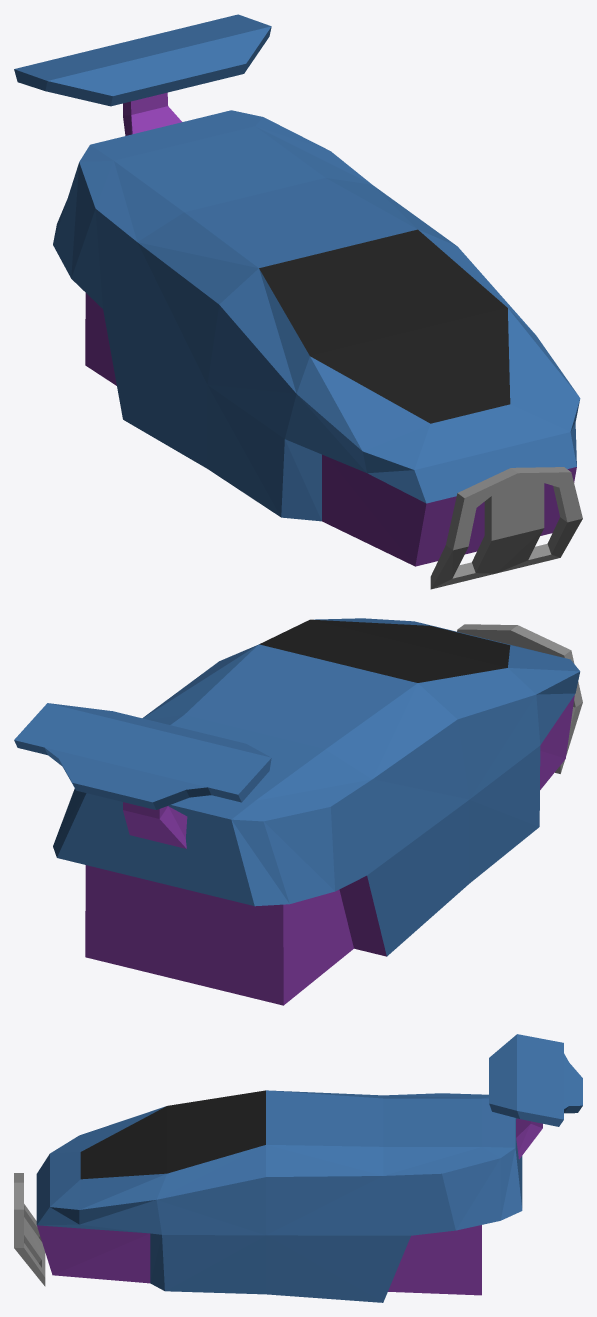
Rendered from Car_3.fbx.
3 renders of one model, top to bottom at view 1: azimuth 30°, elevation 25°; view 2: azimuth 150°, elevation 25°; view 3: azimuth 270°, elevation 25°, orthographic. The views are drawn at different scales.
Parts seen in each view (by area): view 1: Car_2; view 2: Car_2; view 3: Car_2.
Boxes of the visible parts, <box> form: Car_2: <box>14,14,582,589</box>; Car_2: <box>14,618,582,1005</box>; Car_2: <box>14,1034,582,1302</box>.
Bounding box in the file's own units: 14.22 × 14.1 × 37.82.
